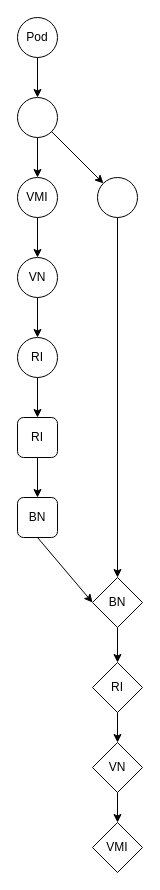
Image size: 160x890. Some labels were removed from this diagram. The shapes that lost their labels are listed below. From the top down, each one's centre as x and y in pixels, then its label:
(x=37, y=117): VM
(x=117, y=197): VR
